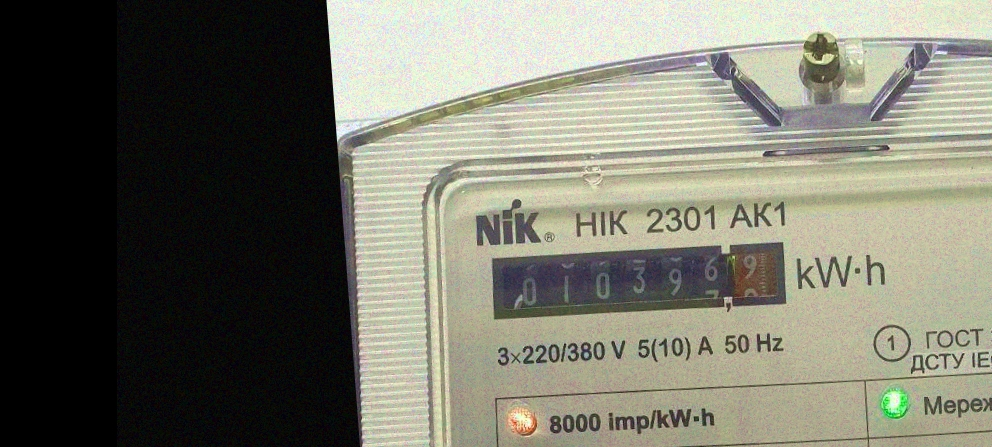0: (590, 267, 615, 301), (517, 273, 540, 307)
1: (558, 270, 574, 304)
3: (629, 262, 649, 297)
6: (699, 253, 722, 283)
9: (663, 264, 685, 298), (737, 251, 760, 282)
screen: (474, 222, 799, 340)
